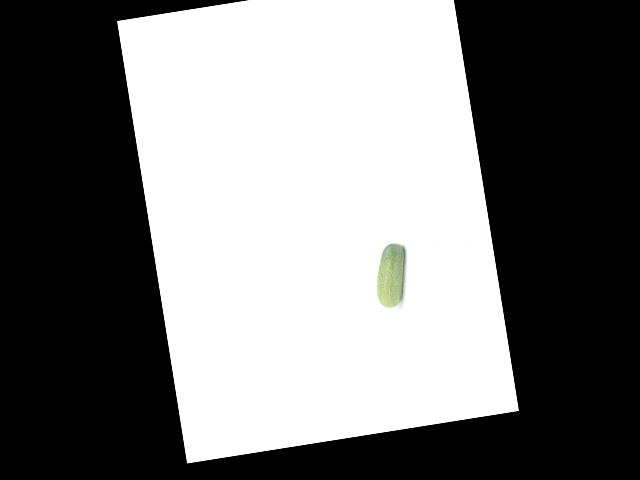cucumber: (370, 241, 413, 309)
